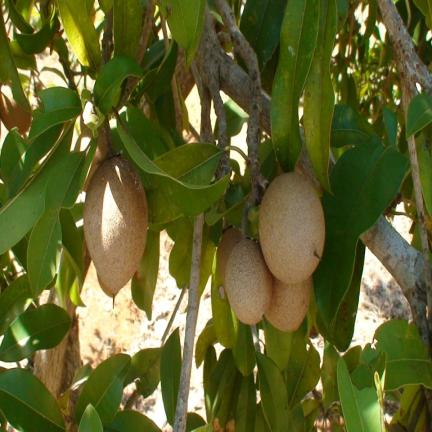kiwi: (84, 156, 147, 292), (259, 173, 325, 284), (226, 239, 272, 324), (265, 277, 312, 331), (83, 131, 107, 191), (0, 91, 32, 134), (218, 228, 241, 287), (97, 274, 119, 307)
